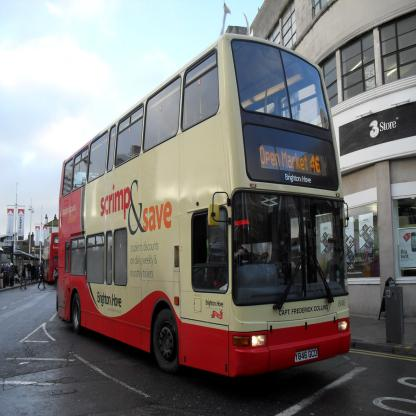Bus: (56, 30, 351, 372), (42, 231, 58, 280)
